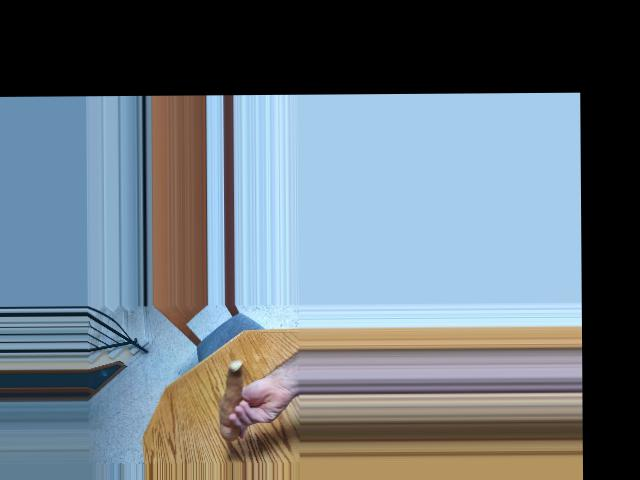sweet_potato: (216, 362, 251, 441)
